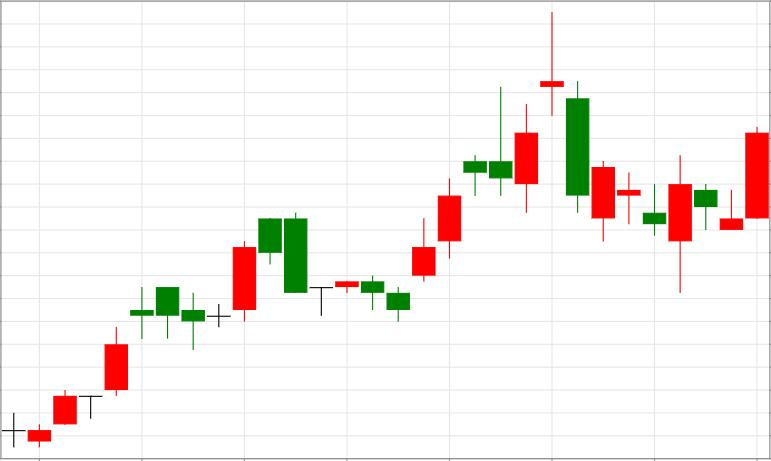evening_star_fall: (388, 13, 589, 322)
